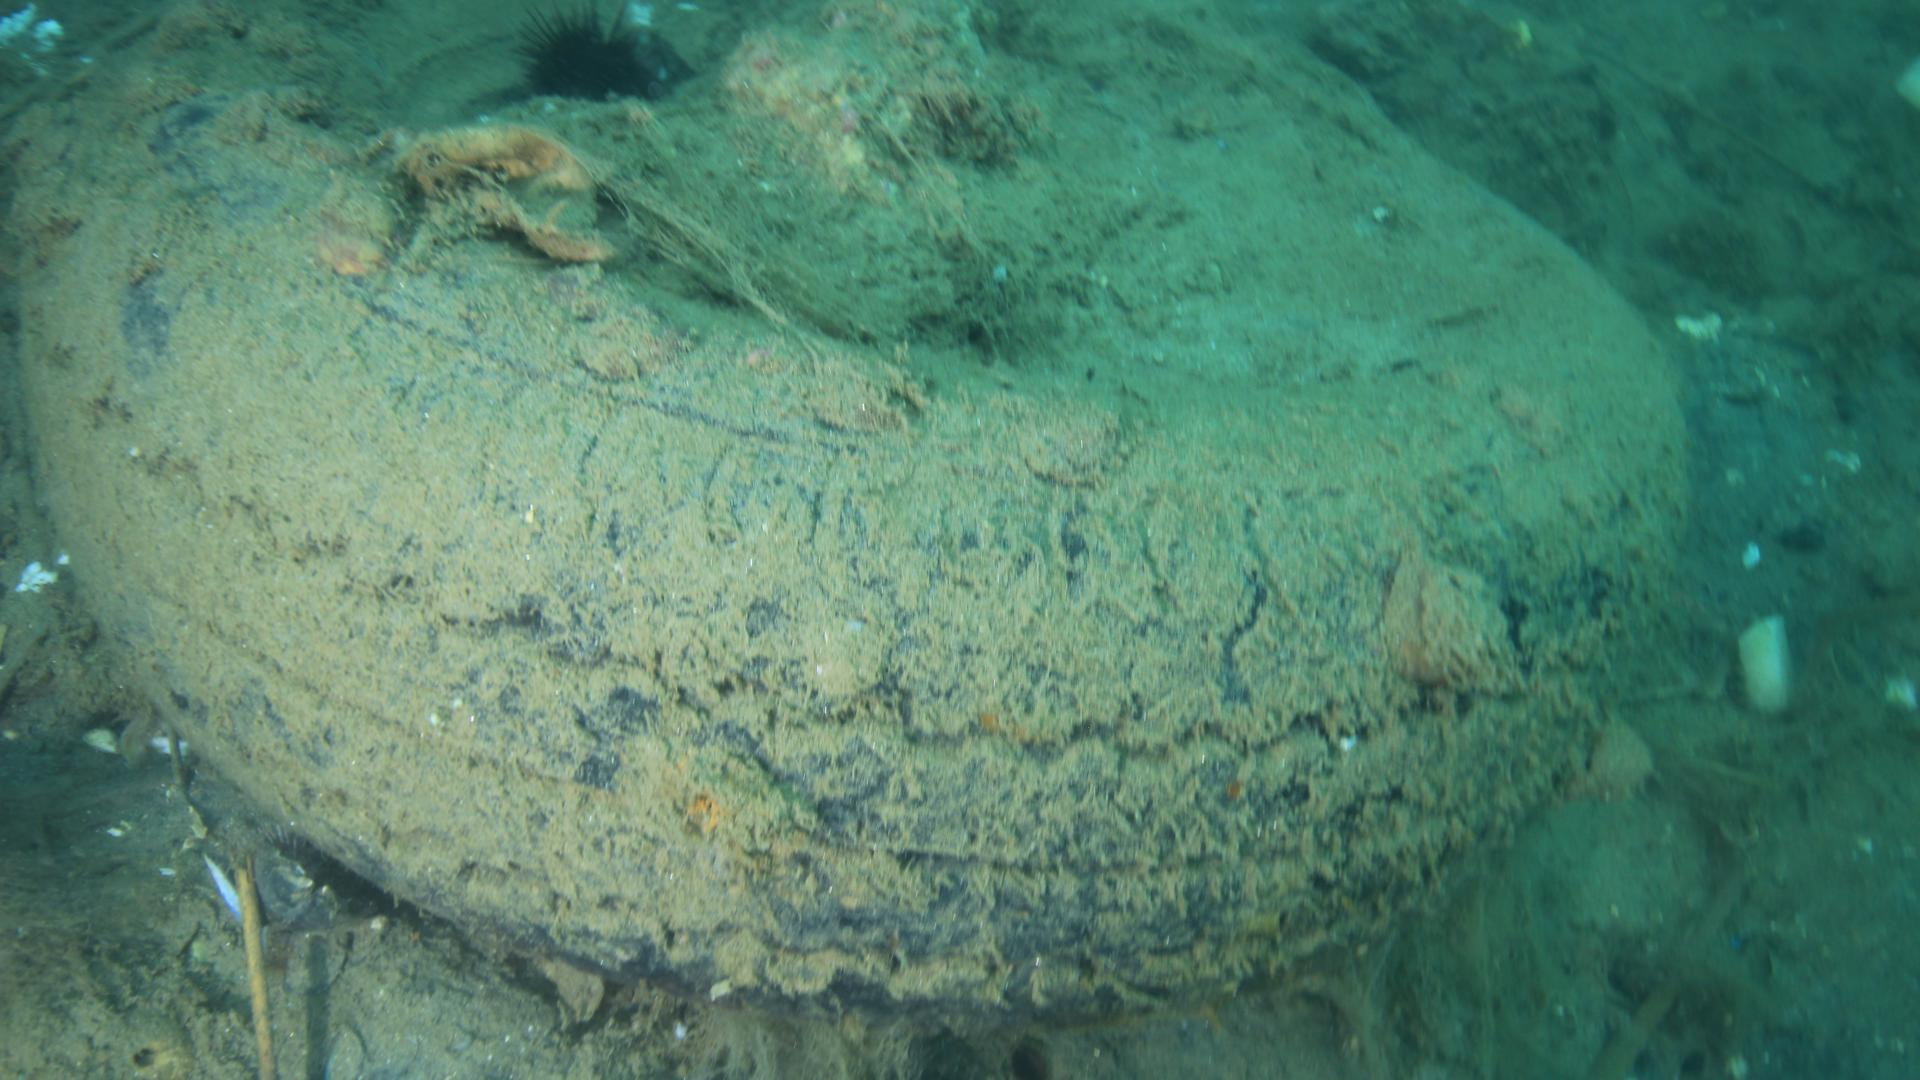tire: (9, 0, 1687, 1039)
